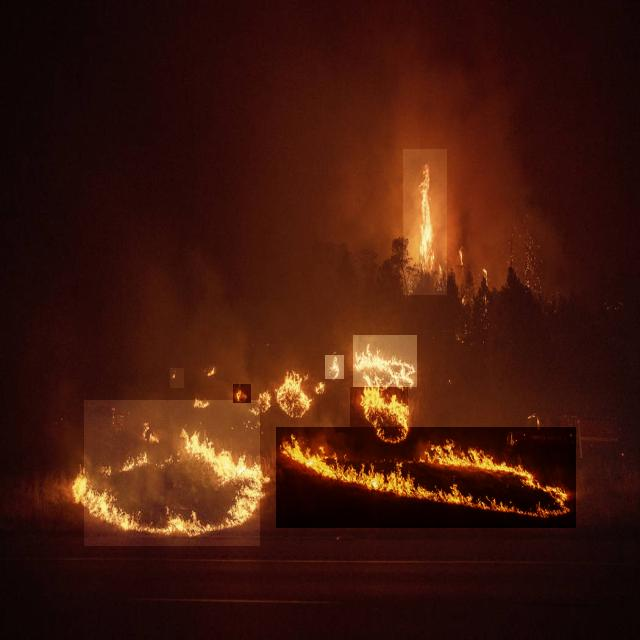Fire: (276, 427, 576, 528), (84, 400, 260, 546), (403, 149, 447, 295), (351, 387, 408, 448), (353, 336, 417, 388), (271, 368, 307, 419), (202, 365, 226, 385), (325, 356, 344, 380), (233, 384, 251, 403), (170, 368, 184, 388)
